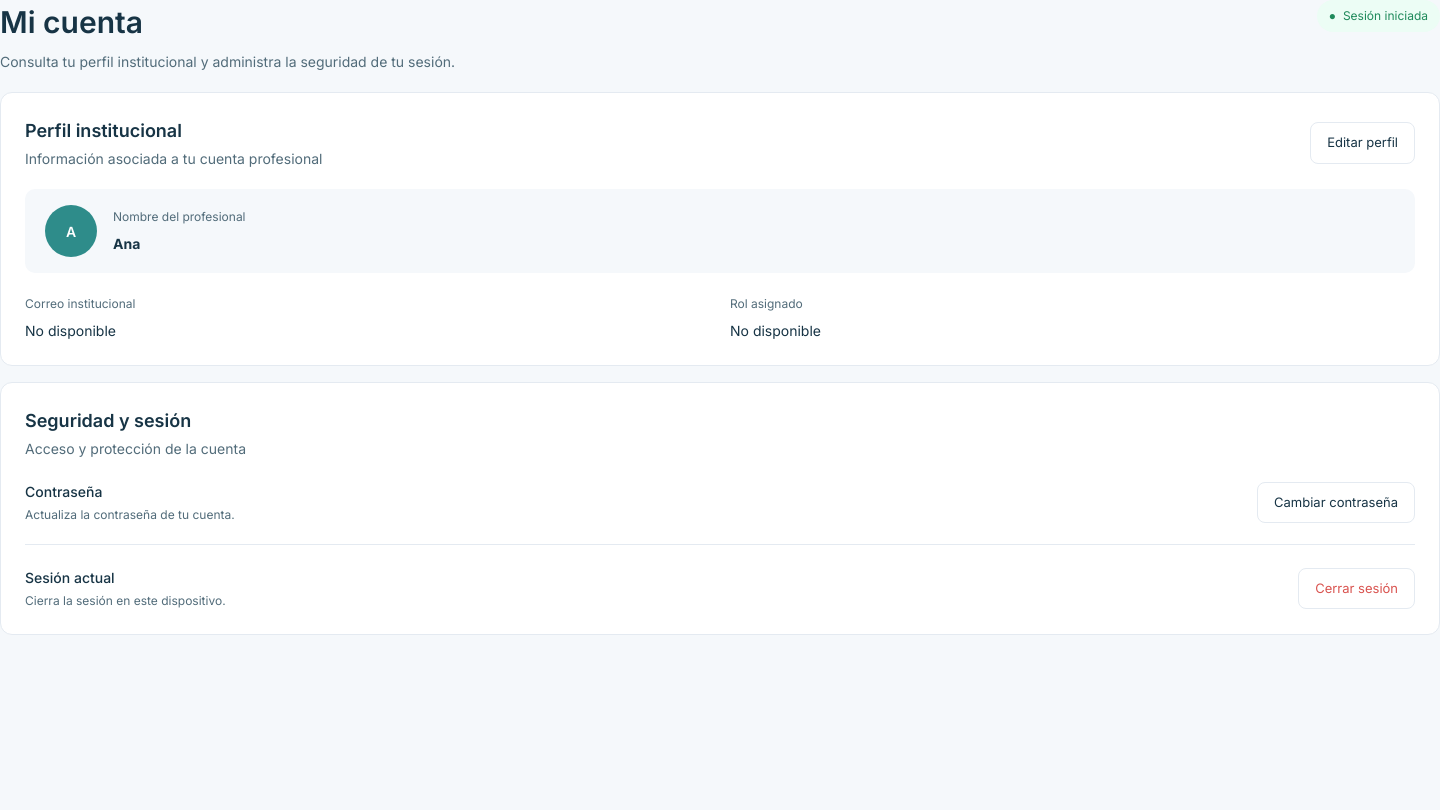
Mi cuenta › valida la confirmación y comunica el cambio de contraseña
Expected: the field labelled "Nueva contraseña" is not shown
Click the button "Cambiar contraseña" at {"x": 1336, "y": 503}, box [1257,482,1415,523]
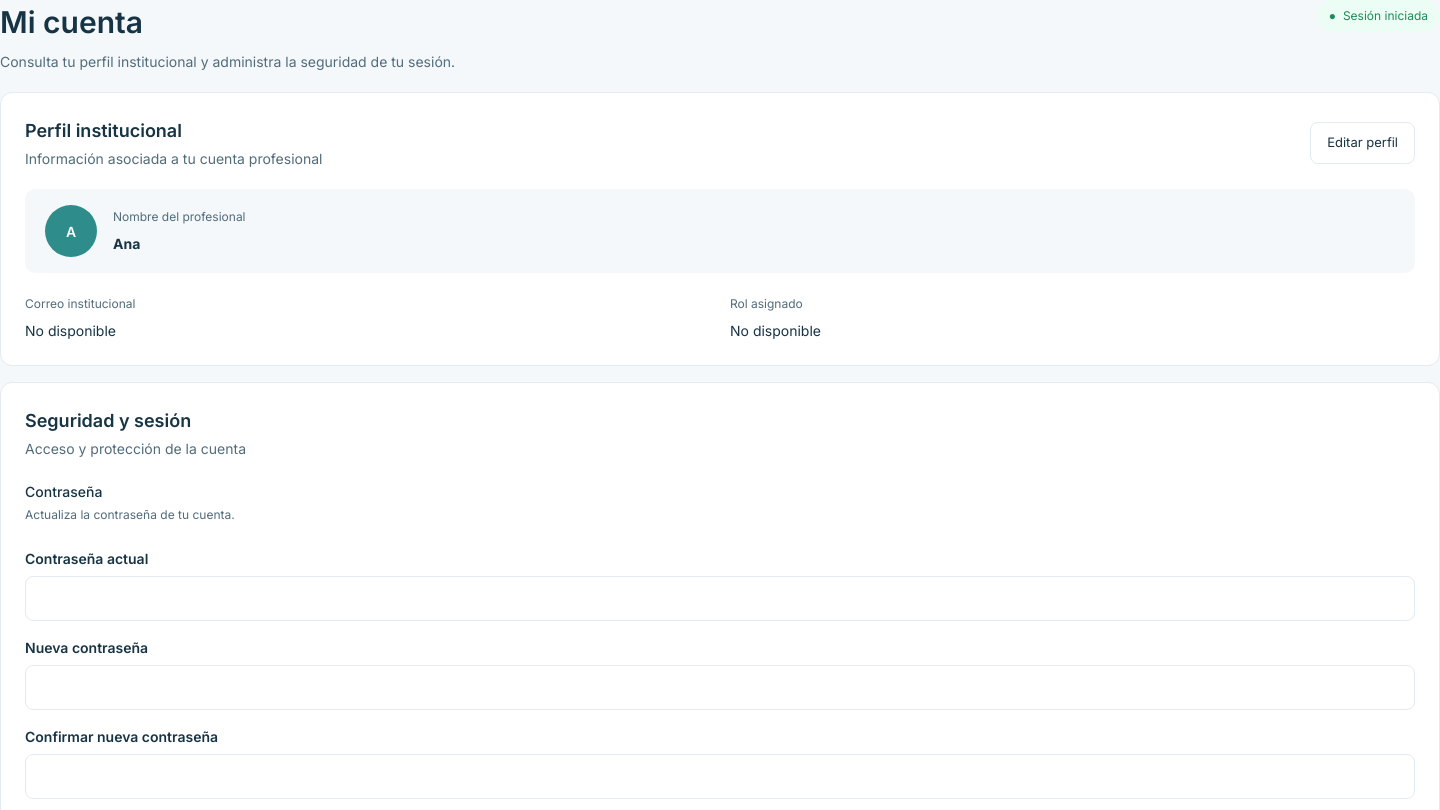
Type "anterior" into the password field labelled "Contraseña actual" at {"x": 720, "y": 598}, box [25,576,1415,621]
Type "nuevaclave1" into the password field labelled "Nueva contraseña" at {"x": 720, "y": 688}, box [25,665,1415,710]
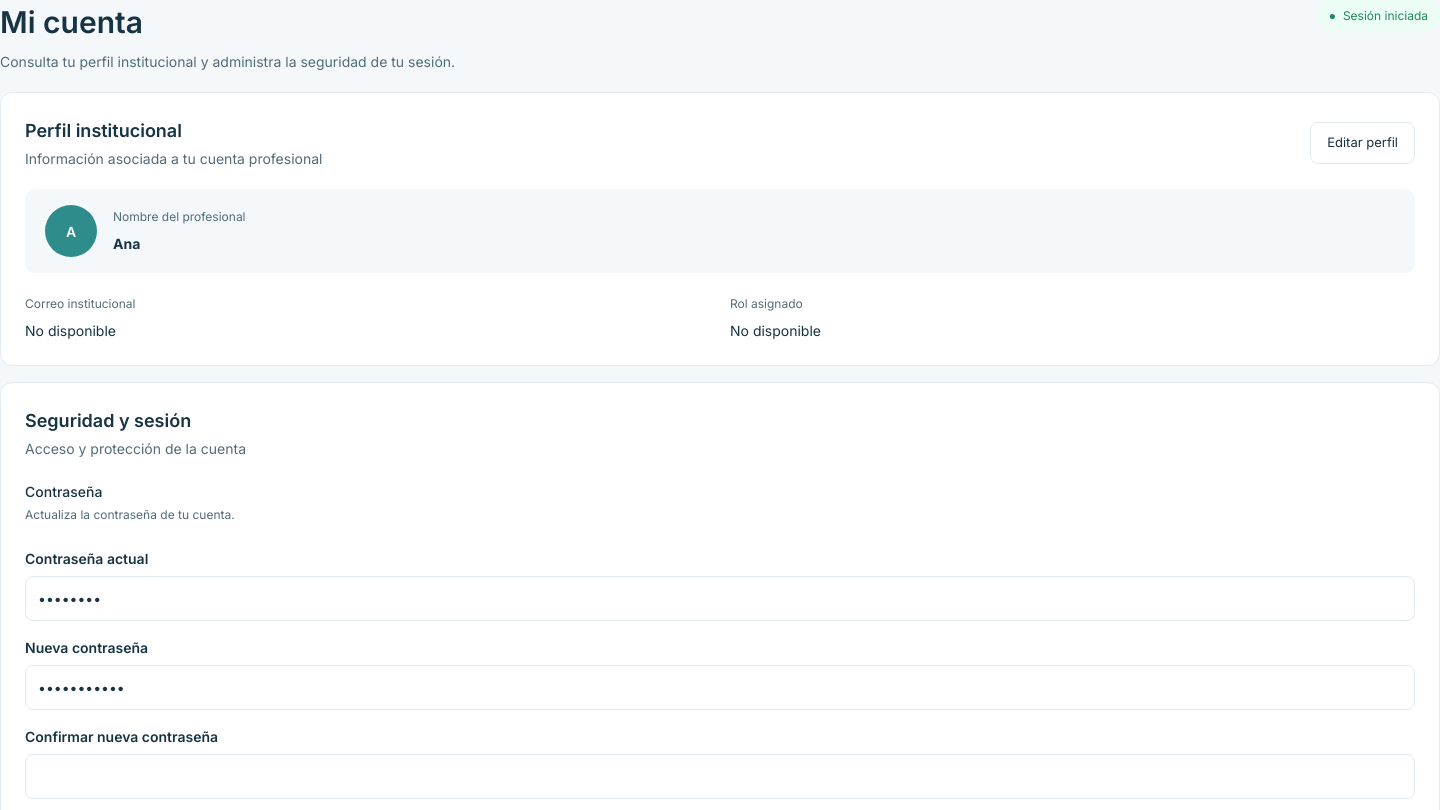
Type "distinta" into the password field labelled "Confirmar nueva contraseña" at {"x": 720, "y": 776}, box [25,754,1415,799]
(page scrolled)
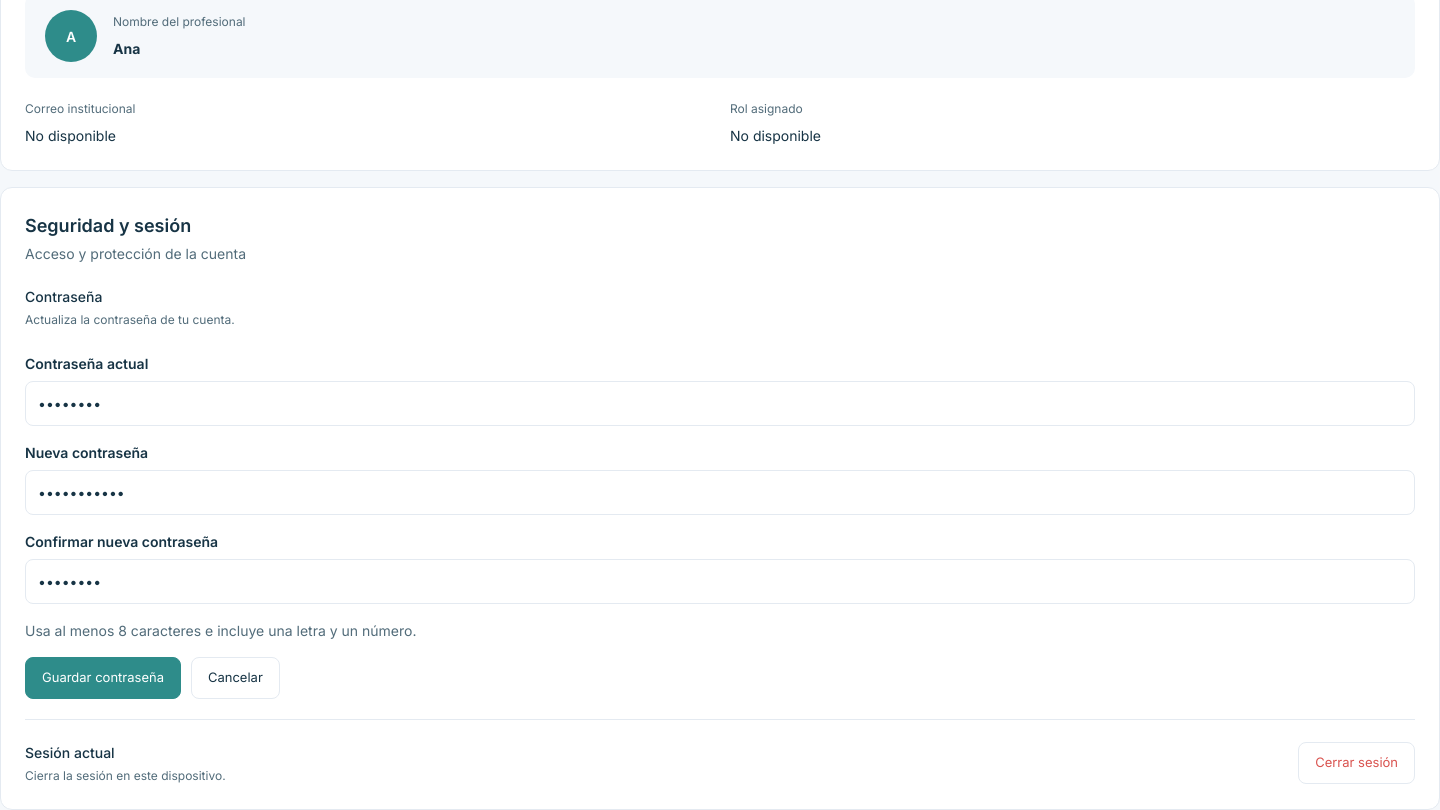
Click the button "Guardar contraseña" at {"x": 103, "y": 678}, box [25,657,181,698]
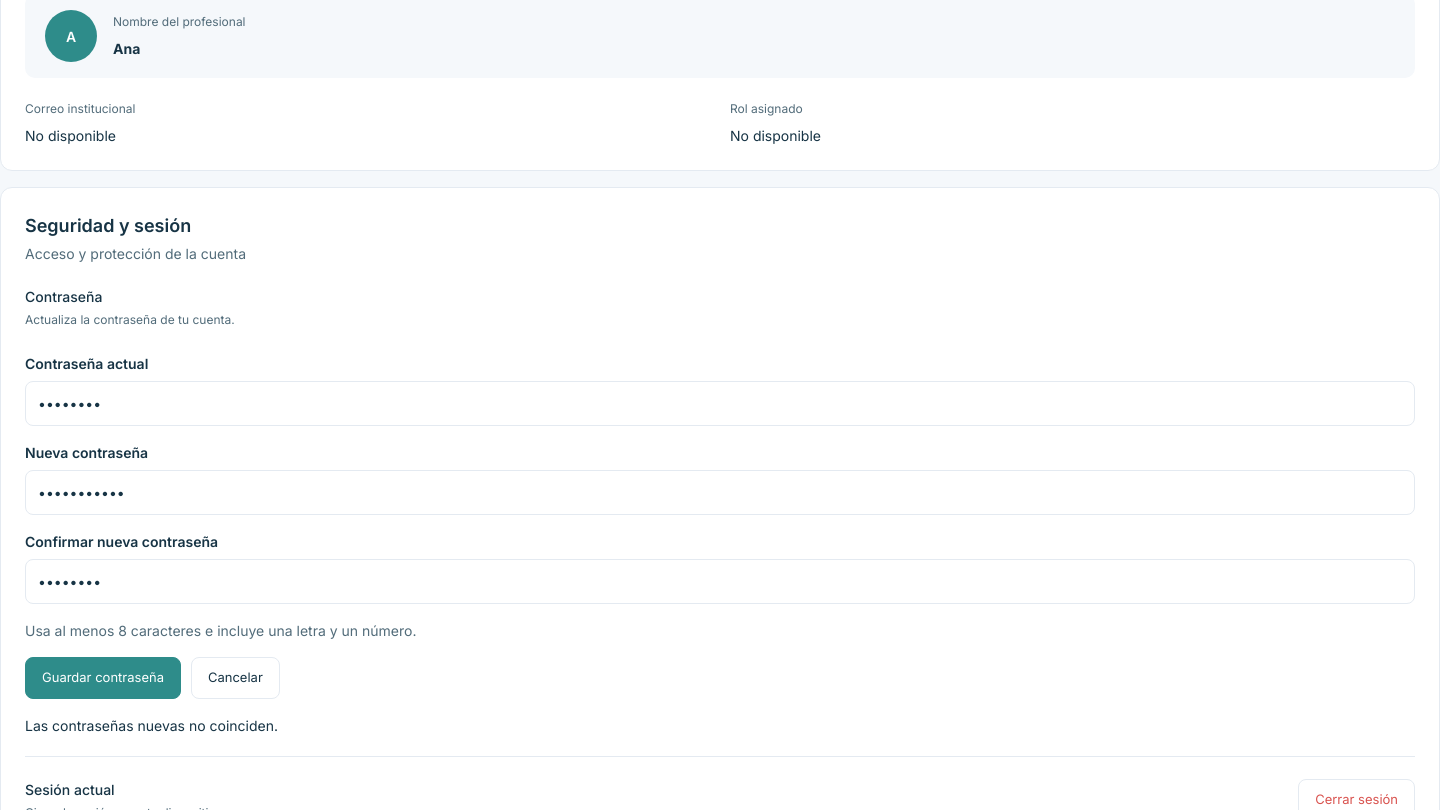
Now the text "Las contraseñas nuevas no coinciden." is shown, box [25,716,278,734]
Type "nuevaclave1" into the password field labelled "Confirmar nueva contraseña" at {"x": 720, "y": 582}, box [25,559,1415,604]
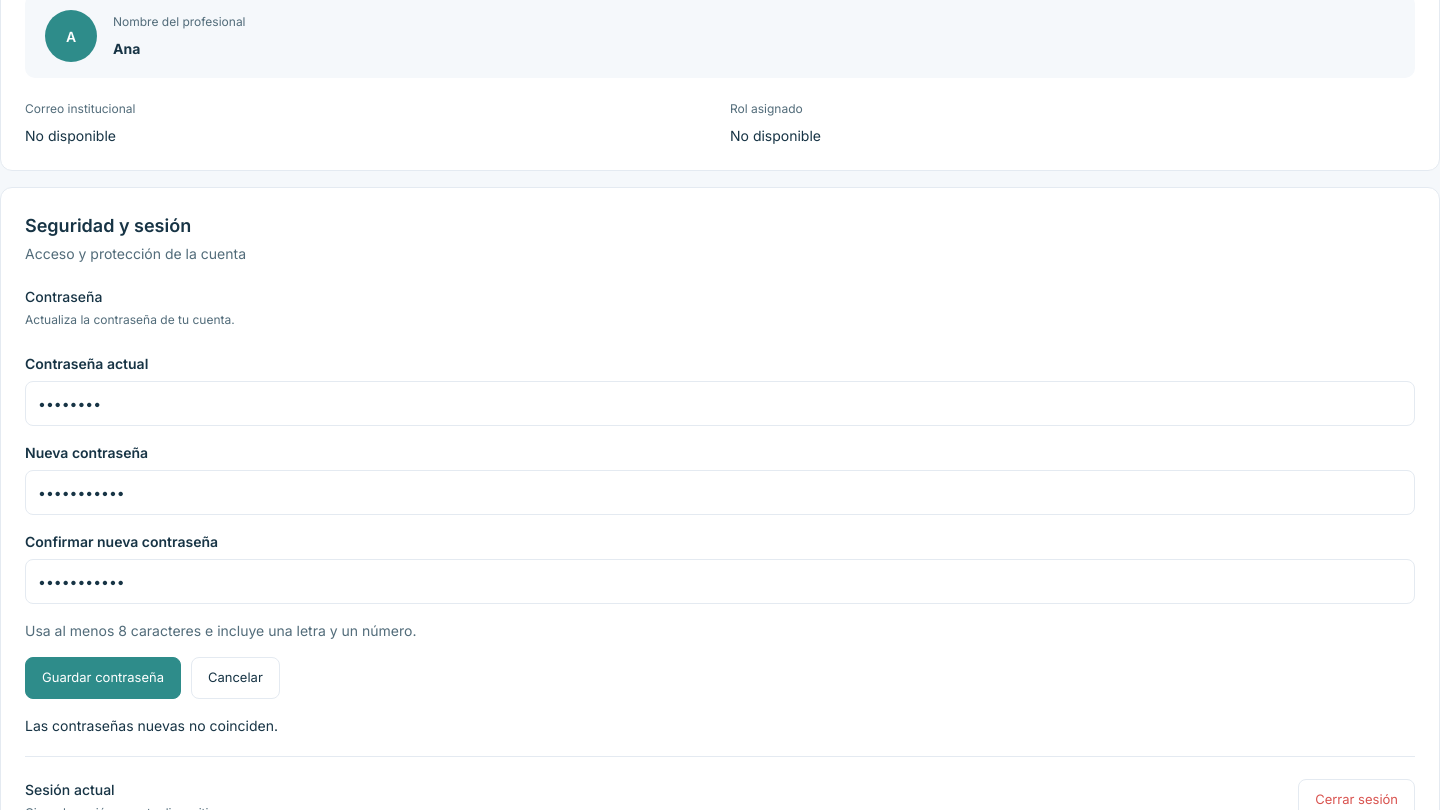
Click the button "Guardar contraseña" at {"x": 103, "y": 678}, box [25,657,181,698]
(page scrolled)
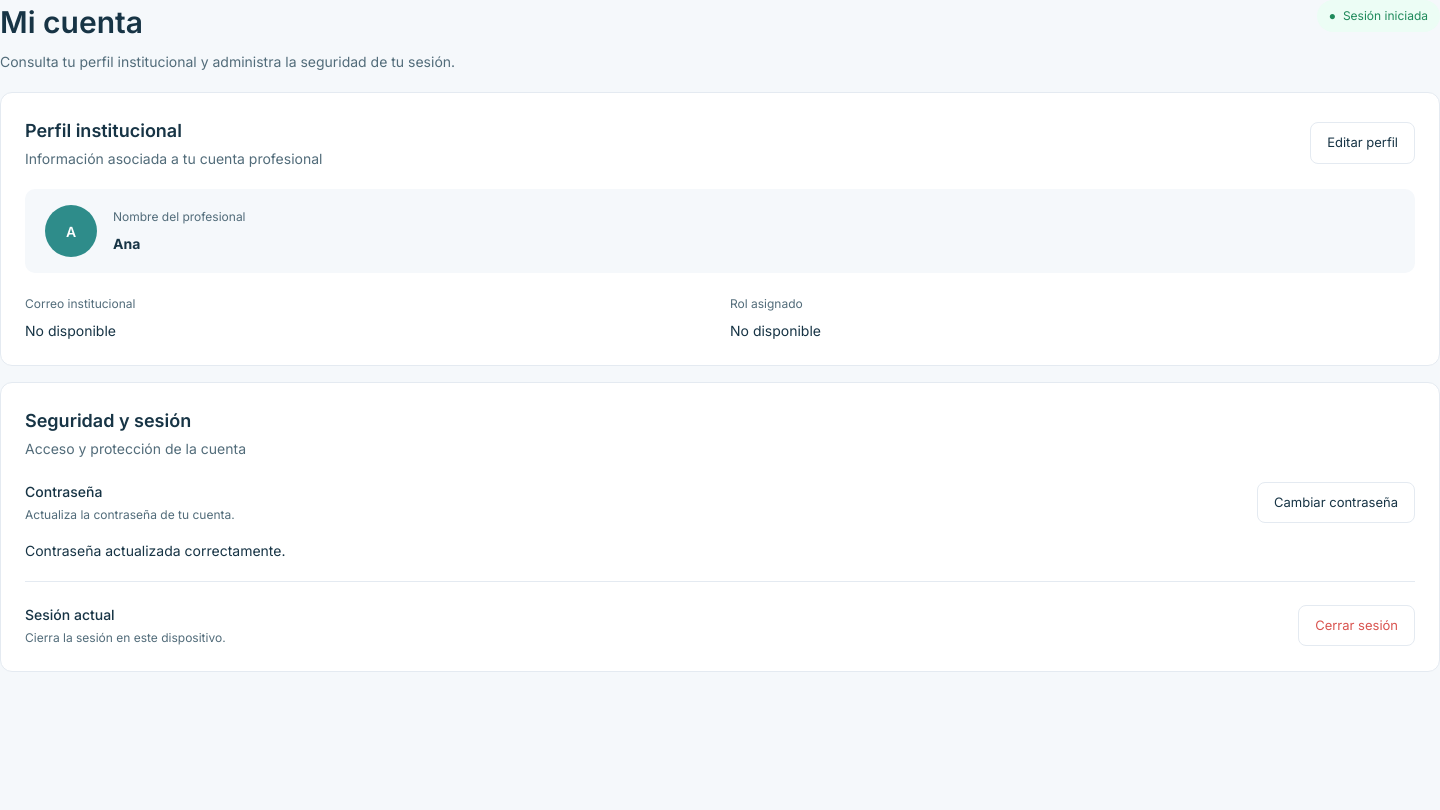
Now the text "Contraseña actualizada correctamente." is shown, box [25,542,286,559]
